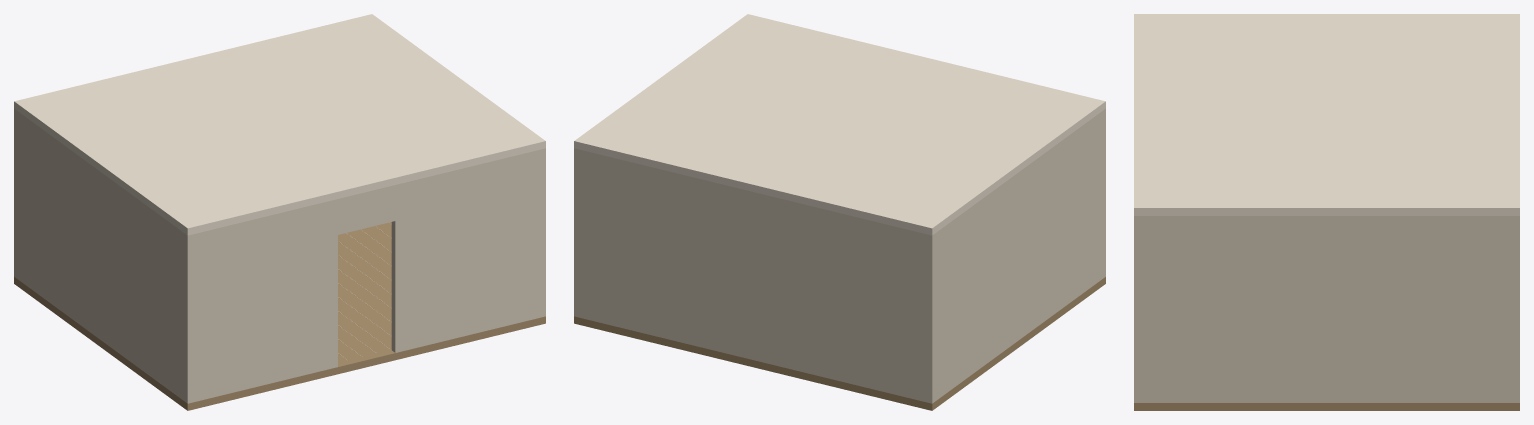
File: room.glb
3 renders of one model, left to right at view 1: azimuth 30°, elevation 25°; view 2: azimuth 150°, elevation 25°; view 3: azimuth 270°, elevation 25°, orthographic. The views are drawn at different scales.
Visible parts, largest first — view 1: Ceiling, West wall, South wall left, South wall right, Floor, Door lintel, North wall; view 2: Ceiling, North wall, West wall, Floor, South wall left; view 3: Ceiling, East wall, Floor, North wall, South wall right.
Part boxes in pixels (x1,y1,x2,y2): Ceiling: (14,14,545,235); West wall: (18,111,183,400); South wall left: (183,199,337,403); South wall right: (391,148,545,352); Floor: (14,222,545,410); Door lintel: (338,185,395,234); North wall: (14,108,17,278); Ceiling: (574,14,1105,235); North wall: (574,148,936,403); West wall: (936,111,1101,400); Floor: (574,277,1105,410); South wall left: (1102,108,1105,278); Ceiling: (1134,14,1519,215); East wall: (1143,216,1510,402); Floor: (1134,403,1519,410); North wall: (1511,216,1519,402); South wall right: (1134,216,1142,402).
Bounding box in the file's own units: 6.24 × 3.04 × 5.24.
